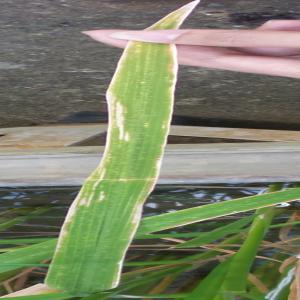Bacterial_Blight: (101, 41, 175, 198)
